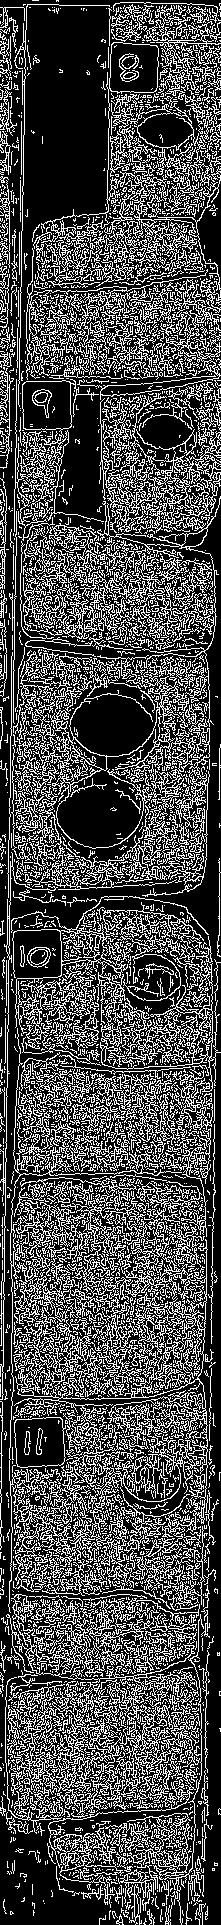hplug: (117, 1447, 192, 1519), (119, 949, 189, 1021), (135, 397, 201, 463), (133, 97, 201, 161)
scal: (52, 767, 157, 867), (63, 679, 165, 769)
vplug: (31, 913, 109, 1071)
